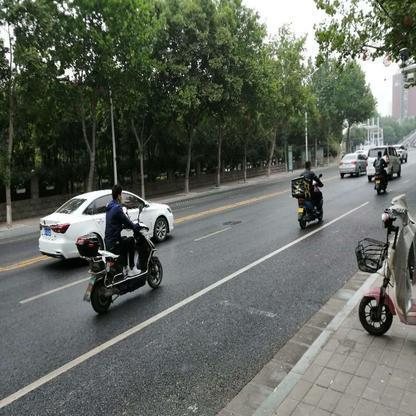target: (75, 185, 164, 316), (291, 161, 325, 229)
